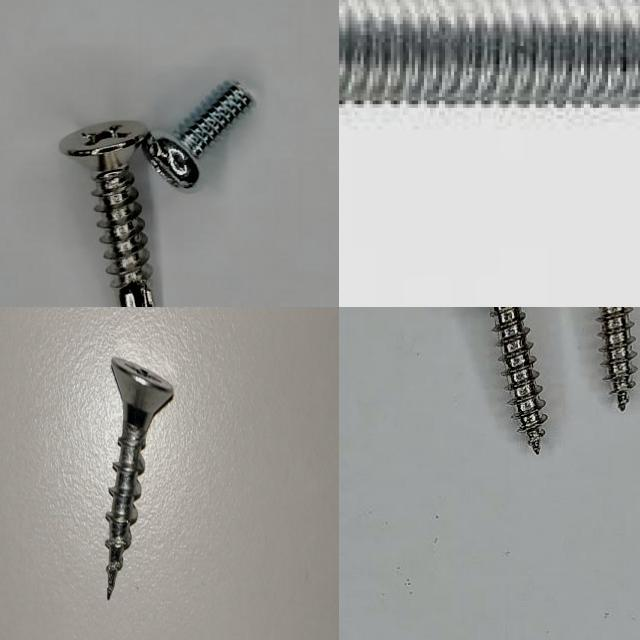Screw: (339, 0, 640, 114), (60, 122, 153, 307), (105, 356, 174, 599), (143, 81, 255, 189), (493, 307, 548, 455), (598, 307, 638, 410)
